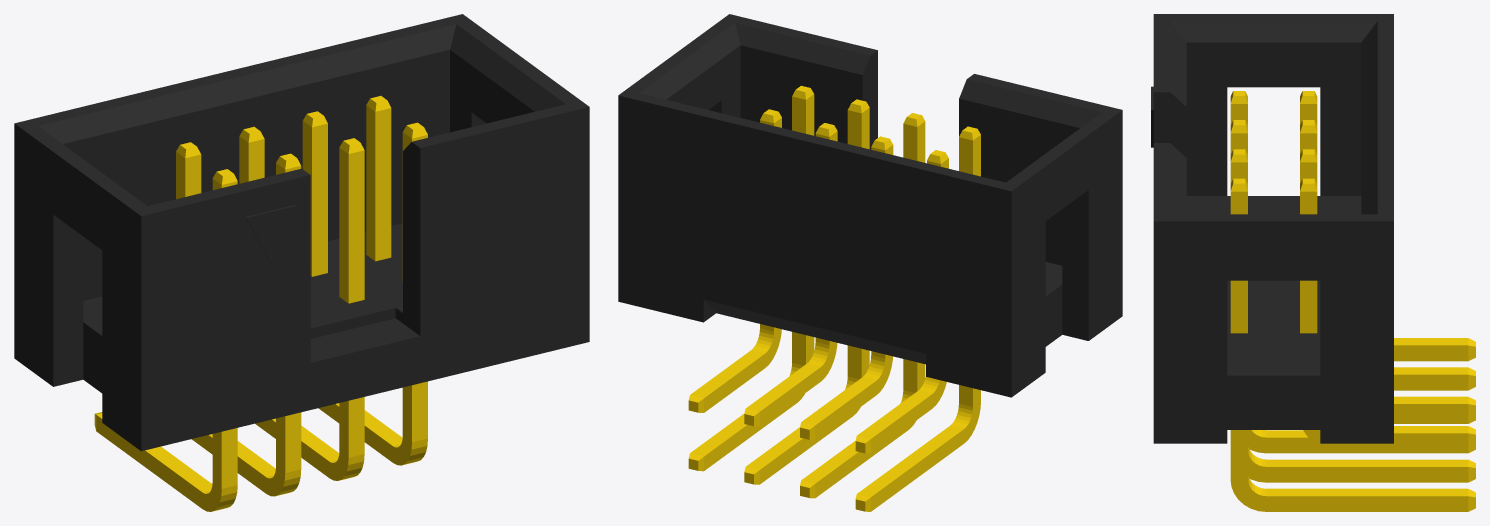
Rendered from DS1013-8R (IDC-8R CONNFLY).obj.
The picture shows the model from 3 angles, left to right: view 1: azimuth 30°, elevation 25°; view 2: azimuth 150°, elevation 25°; view 3: azimuth 270°, elevation 25°; orthographic projection. The views are drawn at different scales.
Parts seen in each view (by area): view 1: DS1013-8R_(IDC-8R_CONNFLY); view 2: DS1013-8R_(IDC-8R_CONNFLY); view 3: DS1013-8R_(IDC-8R_CONNFLY).
Part boxes in pixels (bbox=[...]): DS1013-8R_(IDC-8R_CONNFLY): bbox=[14, 14, 589, 511]; DS1013-8R_(IDC-8R_CONNFLY): bbox=[618, 14, 1122, 511]; DS1013-8R_(IDC-8R_CONNFLY): bbox=[1151, 14, 1475, 511].
Size of the model in its own units: 0.0116 by 0.00902 by 0.00765.
